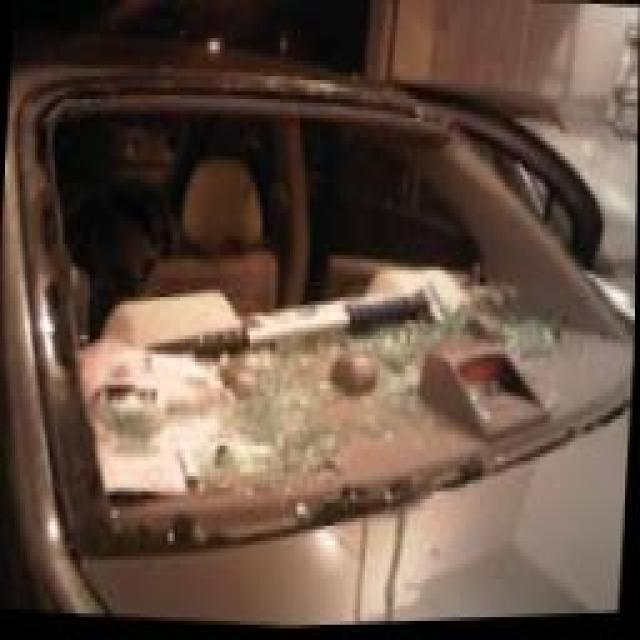replaceable: (35, 94, 640, 521)
